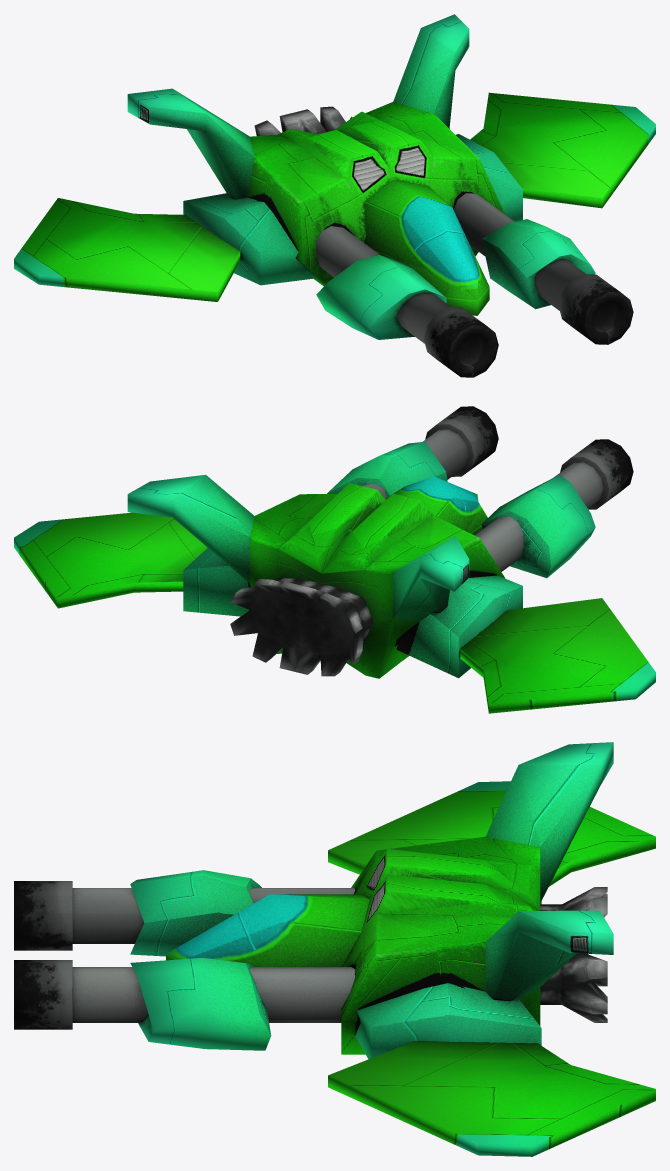
File: main_ship.obj
3 views of the same model, one above another, from view 1: azimuth 30°, elevation 25°; view 2: azimuth 150°, elevation 25°; view 3: azimuth 270°, elevation 25° (orthographic). The views are drawn at different scales.
Parts seen in each view (by area): view 1: Ship_Cube_Cube.001; view 2: Ship_Cube_Cube.001; view 3: Ship_Cube_Cube.001.
Part boxes in pixels (x1,y1,x2,y2): Ship_Cube_Cube.001: (14, 14, 655, 377); Ship_Cube_Cube.001: (14, 406, 655, 713); Ship_Cube_Cube.001: (14, 742, 655, 1156).
Bounding box in the file's own units: 7.82 × 1.84 × 5.83.
Materials: 1 (1 with a texture image).
